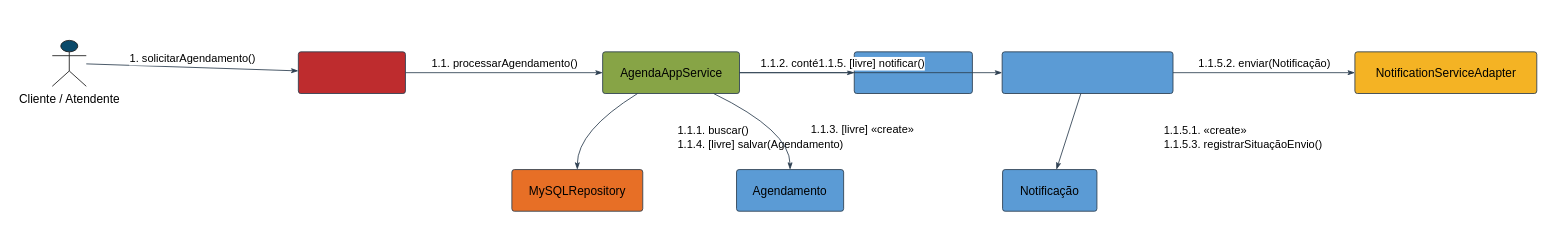
Some shapes in this 1552 by 226 pixel diagram are drawn without their labels. The box of each missing label's shape, as (x1, y1, x2, y2) in pixels:
ComunicacaoAppService: (1001, 51, 1173, 94)
Disponibilidade: (853, 51, 972, 94)
WebFrontend: (298, 51, 405, 94)
